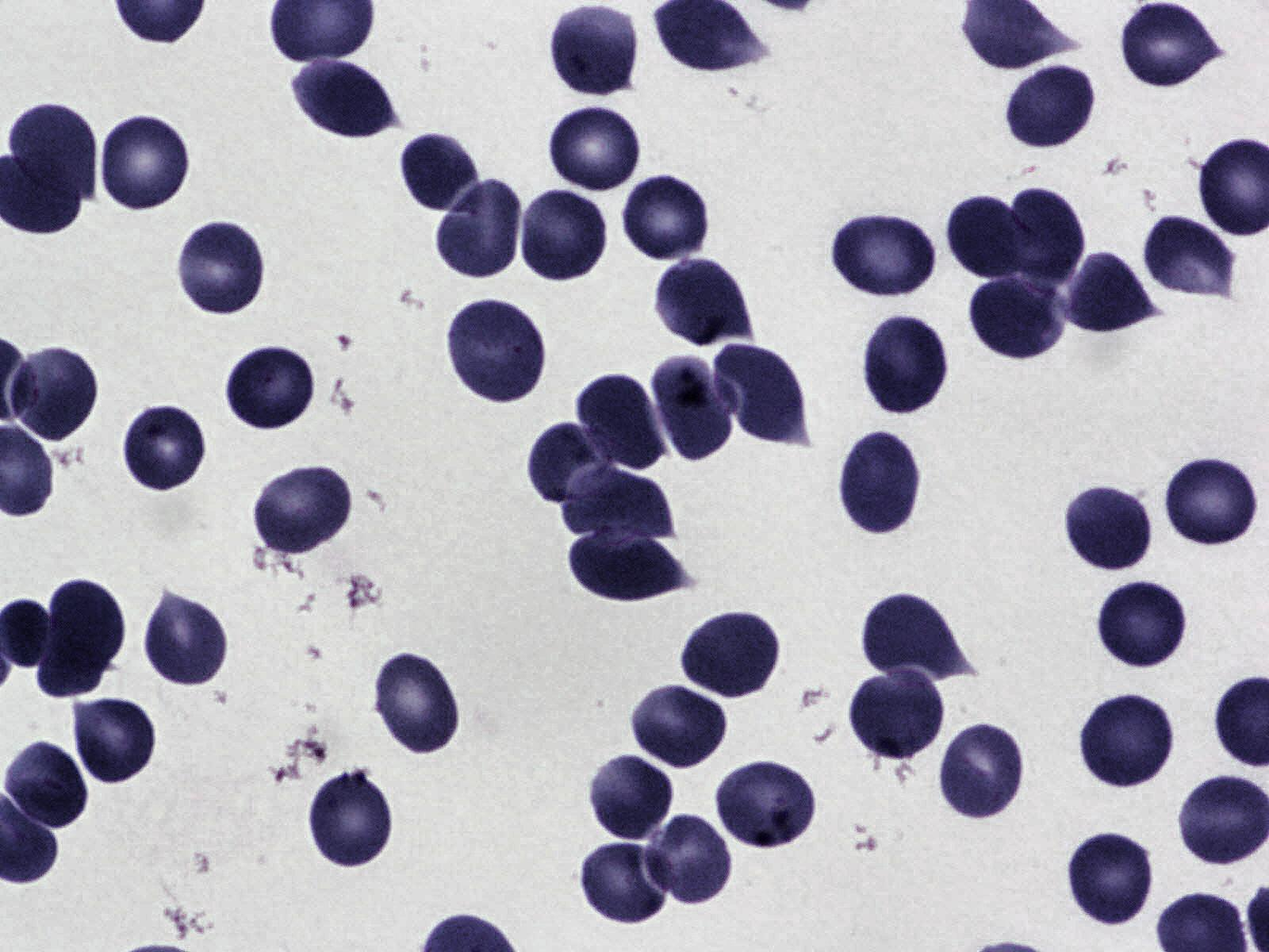Uninfected: (444, 300, 548, 404), (36, 578, 124, 698), (569, 521, 688, 605), (97, 113, 194, 213), (542, 105, 646, 198), (1074, 695, 1175, 789), (718, 339, 809, 443), (1174, 773, 1268, 873), (827, 217, 936, 303), (307, 767, 394, 874), (296, 56, 401, 144), (1061, 835, 1156, 932), (435, 179, 525, 281), (971, 271, 1067, 365), (654, 0, 767, 78), (9, 104, 98, 203), (841, 431, 924, 537), (1058, 250, 1160, 336), (864, 313, 949, 416), (642, 814, 734, 909), (938, 721, 1026, 820), (2, 736, 90, 835), (562, 465, 673, 543), (678, 615, 778, 701), (577, 375, 669, 468), (1096, 577, 1187, 671), (619, 172, 713, 263), (863, 595, 966, 678), (1116, 8, 1221, 89), (375, 651, 458, 753), (718, 762, 815, 849), (654, 261, 747, 351), (224, 346, 321, 432), (589, 752, 678, 845), (144, 594, 231, 689), (1006, 63, 1099, 151), (947, 187, 1033, 282), (72, 693, 160, 785), (257, 468, 350, 555), (581, 835, 673, 922), (1064, 486, 1154, 574), (179, 222, 263, 316), (654, 367, 738, 461), (121, 409, 213, 494), (13, 348, 98, 440), (1166, 457, 1255, 544), (850, 671, 945, 752), (633, 683, 724, 767), (1143, 213, 1234, 295), (552, 9, 632, 100), (1011, 187, 1084, 286), (529, 423, 618, 504), (522, 192, 604, 279), (402, 132, 481, 216)
